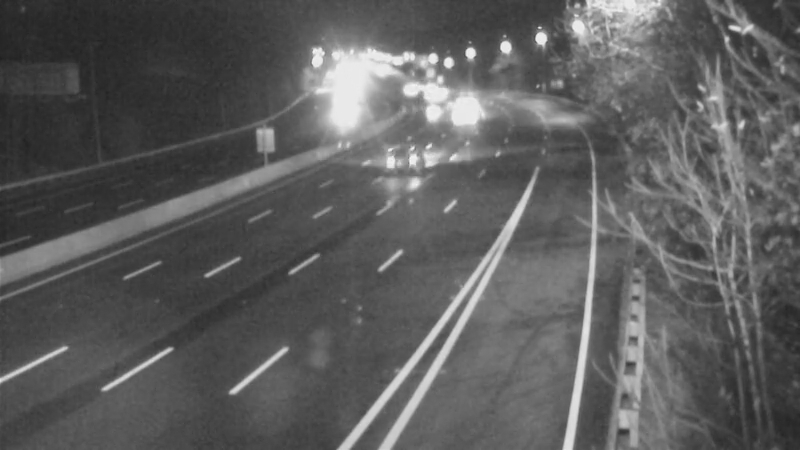vehicle: (362, 120, 442, 200), (441, 81, 491, 131), (409, 75, 459, 125), (439, 91, 489, 141)
